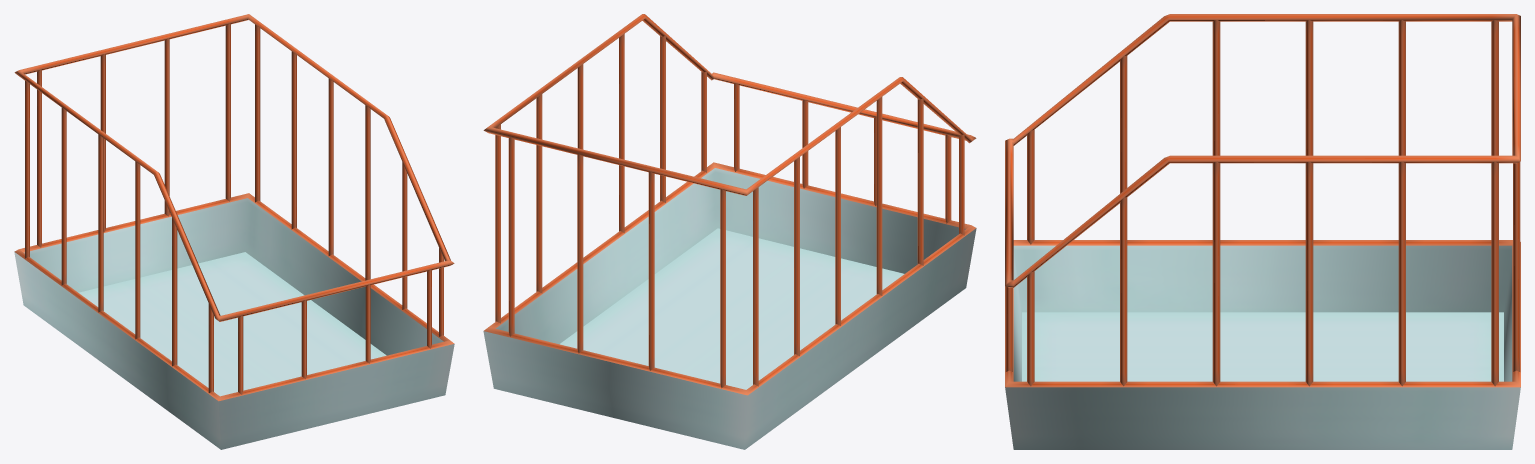
The model's file is KR_Wire_box_01_03.fbx.
3 renders of one model, left to right at view 1: azimuth 30°, elevation 25°; view 2: azimuth 150°, elevation 25°; view 3: azimuth 270°, elevation 25°, orthographic. The views are drawn at different scales.
Visible parts, largest first — view 1: kr_wire_box_01_03; view 2: kr_wire_box_01_03; view 3: kr_wire_box_01_03.
Boxes of the visible parts, box(x1,y1,x2,y2) form: kr_wire_box_01_03: box(14, 14, 454, 449); kr_wire_box_01_03: box(483, 14, 976, 449); kr_wire_box_01_03: box(1005, 14, 1520, 449).
Size of the model in its own units: 20 by 19 by 30.
